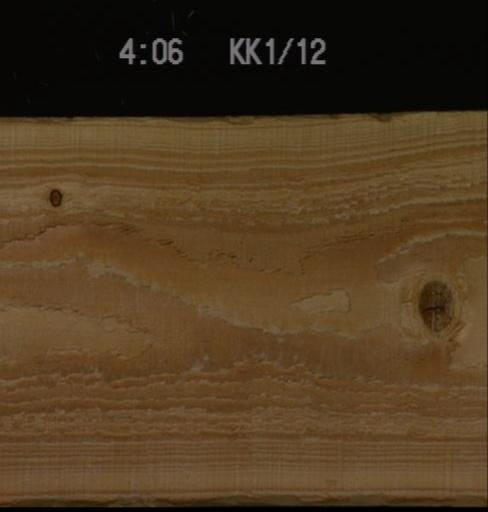dry_knot: (47, 186, 61, 207)
sound_knot: (414, 278, 456, 333)
wave: (0, 491, 486, 506), (149, 114, 263, 125), (0, 114, 100, 123)
